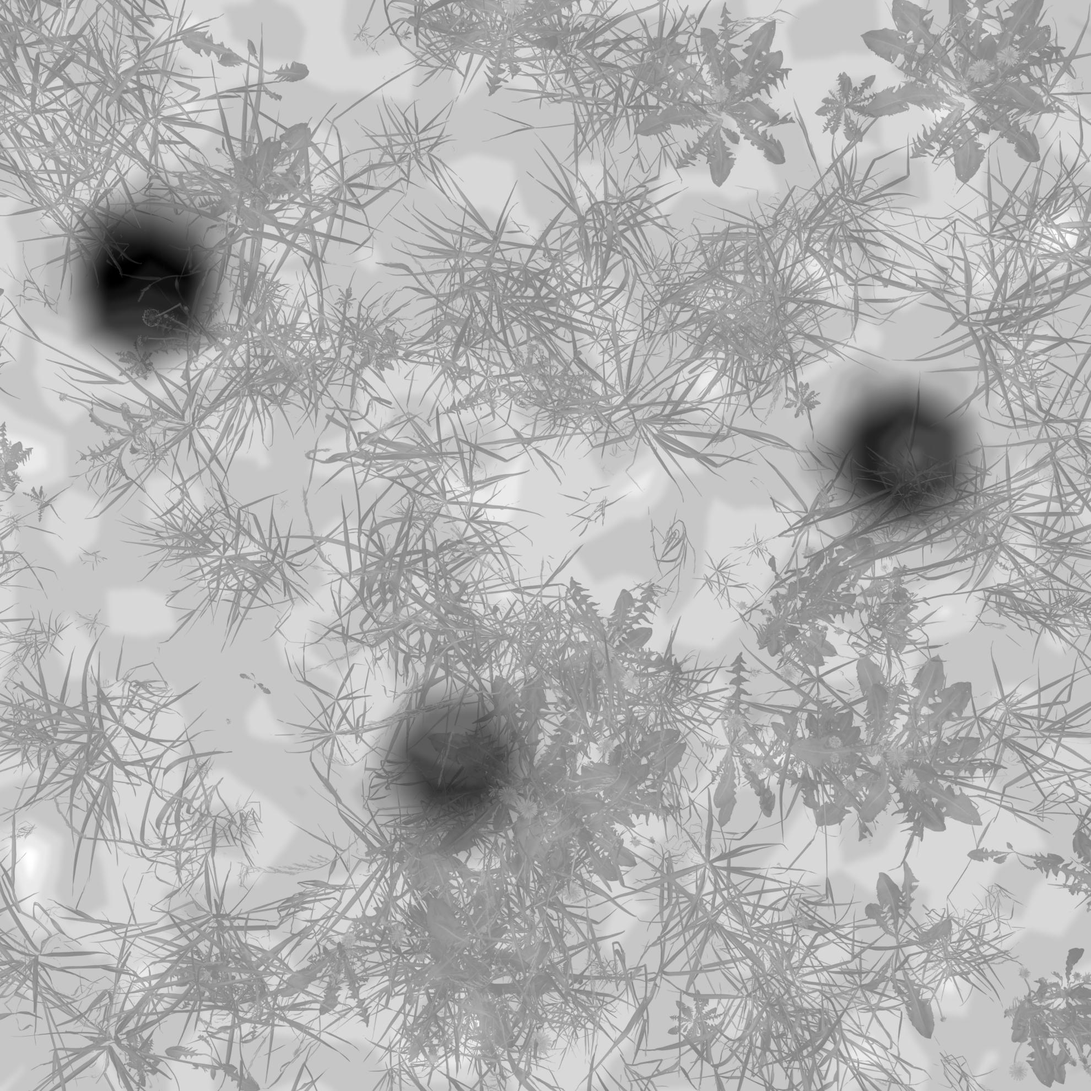landmine: (807, 373, 973, 548), (60, 206, 223, 362), (389, 709, 526, 842)
